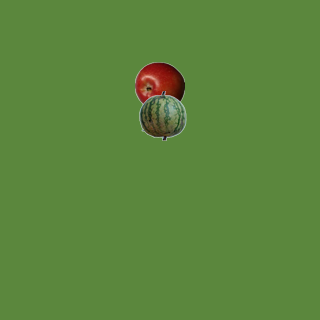Apple Braeburn: (134, 61, 184, 111)
Watermelon: (137, 90, 187, 140)
